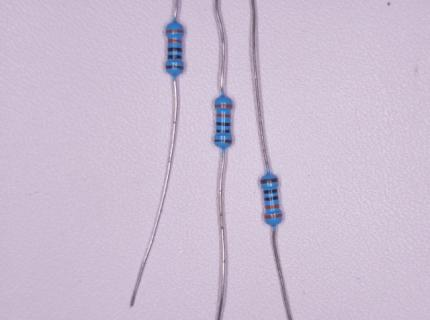Black band: (216, 122, 231, 127), (263, 189, 277, 194), (264, 196, 278, 201), (167, 55, 182, 59), (168, 48, 182, 52), (217, 129, 230, 133)
Brown band: (166, 65, 183, 70), (261, 178, 278, 183), (214, 140, 232, 144)
Orange band: (264, 213, 282, 219), (165, 29, 184, 33), (215, 104, 233, 108), (217, 113, 231, 118), (265, 204, 279, 209), (168, 39, 182, 43)
